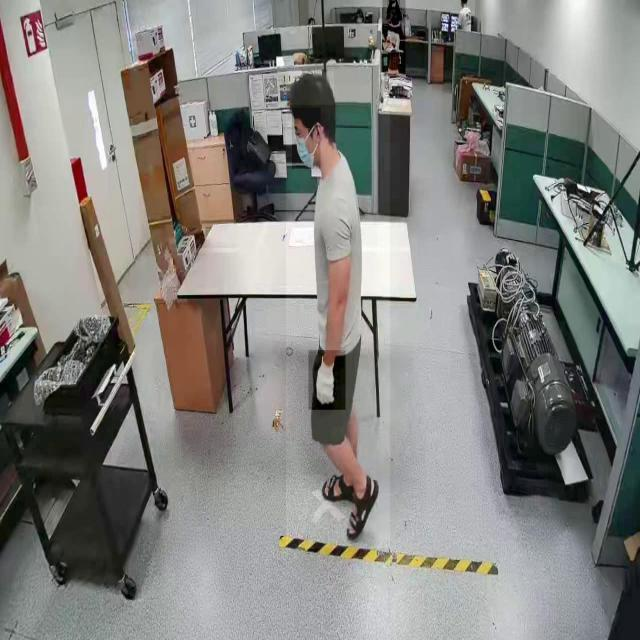gloves: (308, 350, 346, 410)
